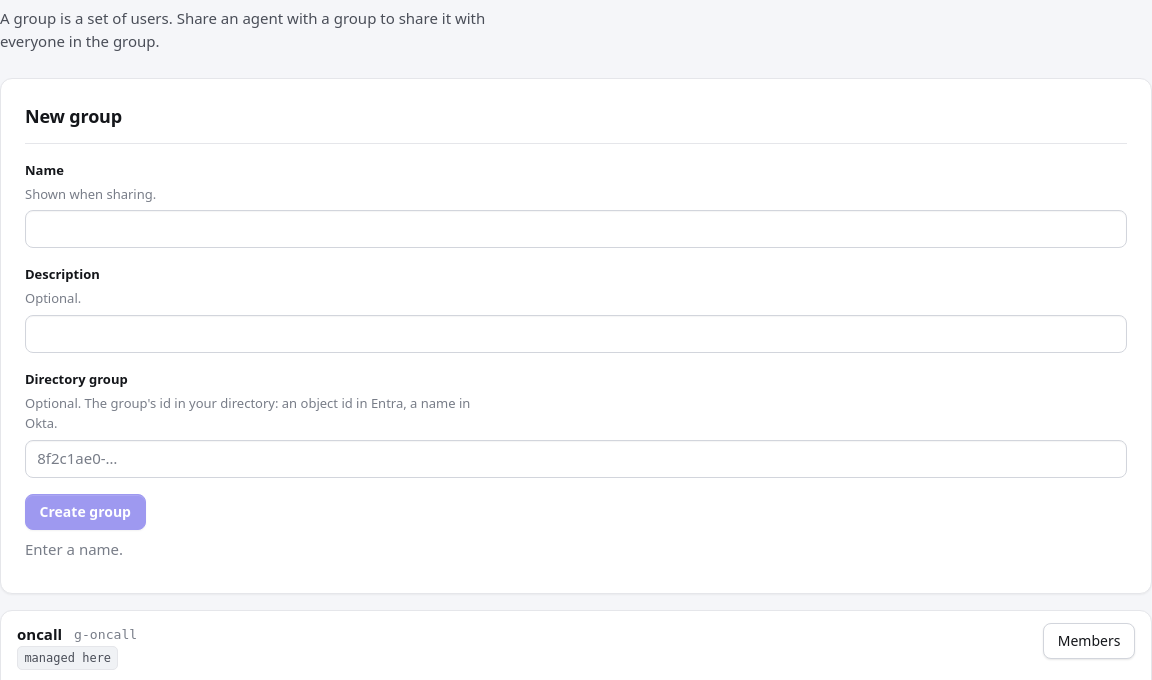
it: the list › says an empty group has no members
This screenshot has width=1152, height=680.
What coordinates should you click on to do the following:
click the button "Members"
I would click on:
 (1089, 641)
Its box is [1043,623,1135,659].
(page scrolled)
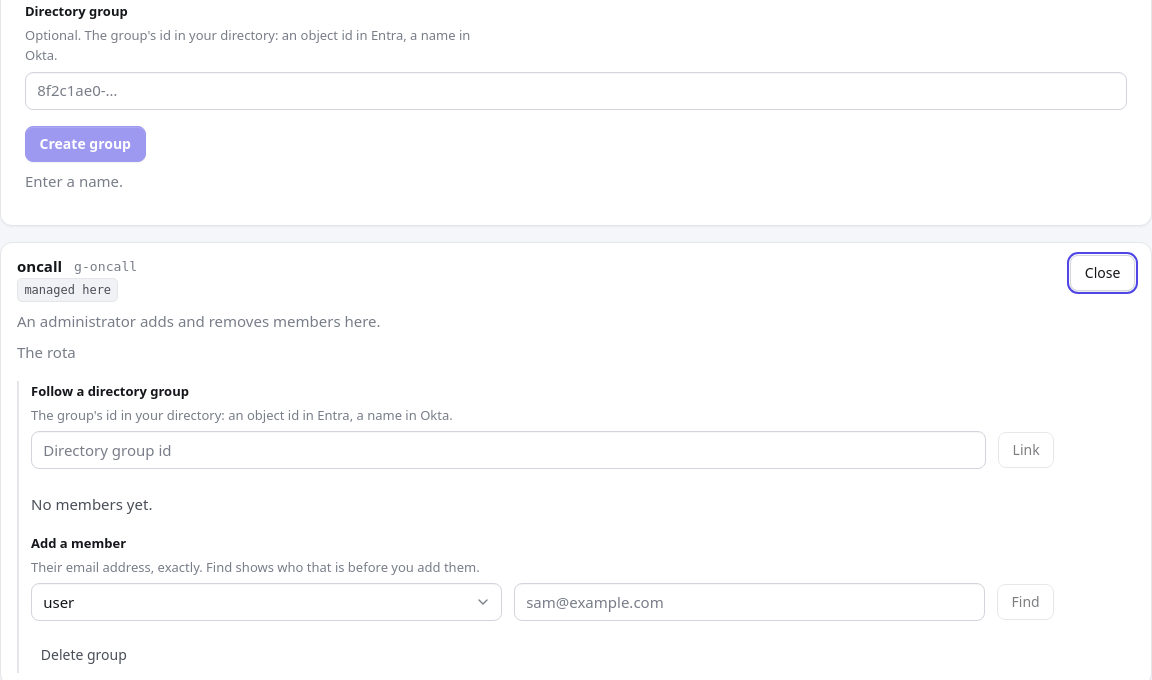
Check: the text "No members yet." is shown, box [31,494,152,514]
